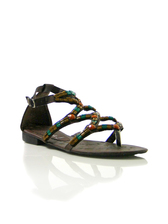shoes: (17, 81, 153, 157)
